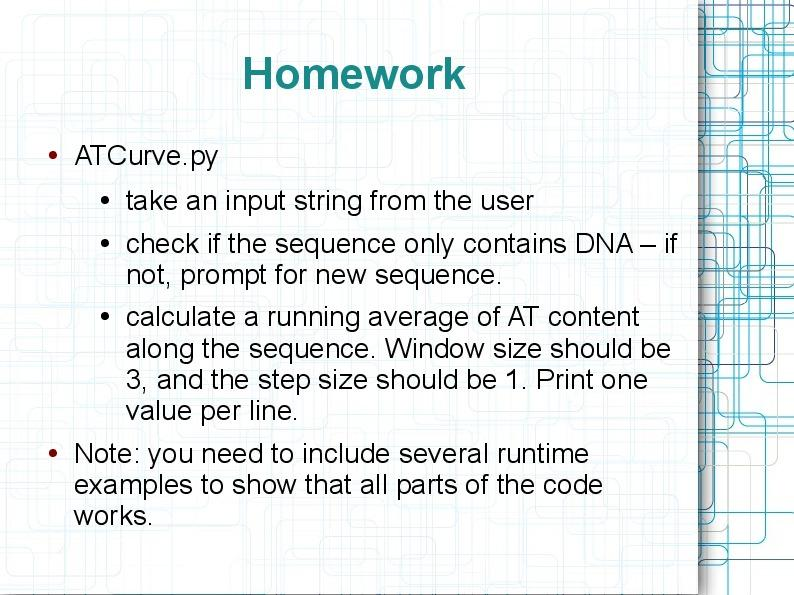paragraph: (24, 124, 706, 558)
title: (233, 37, 486, 117)
